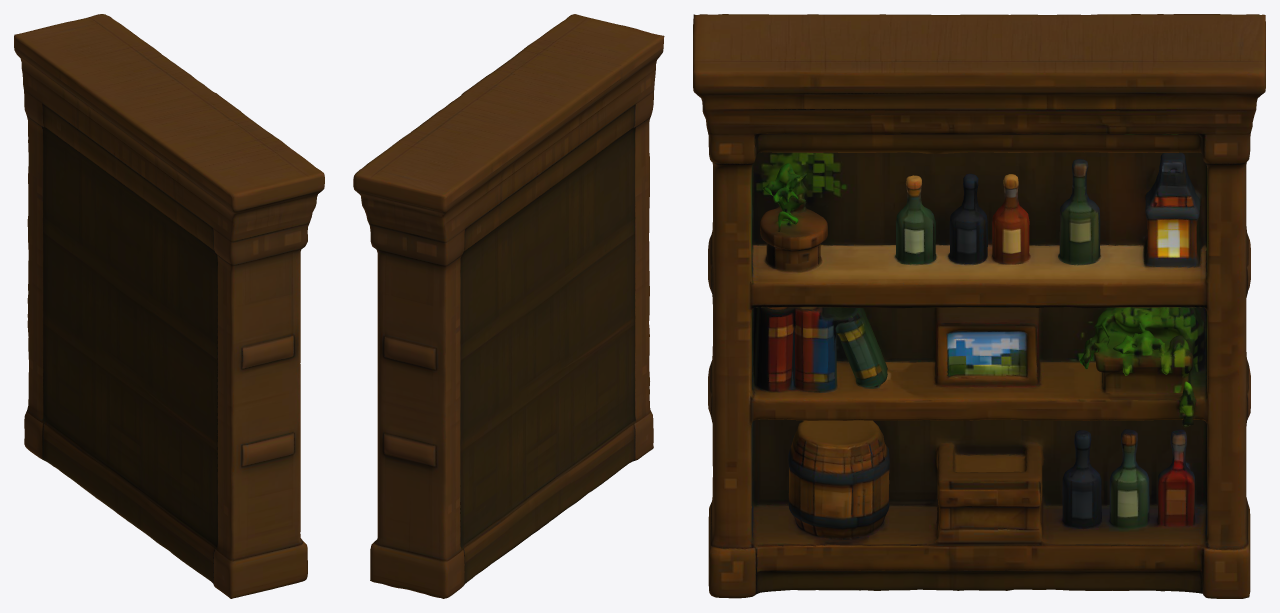
File: voxel+bookshelf+3d+model.fbx
3 renders of one model, left to right at view 1: azimuth 30°, elevation 25°; view 2: azimuth 150°, elevation 25°; view 3: azimuth 270°, elevation 25°, orthographic. The views are drawn at different scales.
Visible parts, largest first — view 1: tripo_node_4d3bcbce; view 2: tripo_node_4d3bcbce; view 3: tripo_node_4d3bcbce.
Part boxes in pixels (<box>): tripo_node_4d3bcbce: <box>14,14,324,598</box>; tripo_node_4d3bcbce: <box>353,14,664,598</box>; tripo_node_4d3bcbce: <box>693,14,1265,598</box>.
Size of the model in its own units: 23.73 by 99.98 by 97.33.
